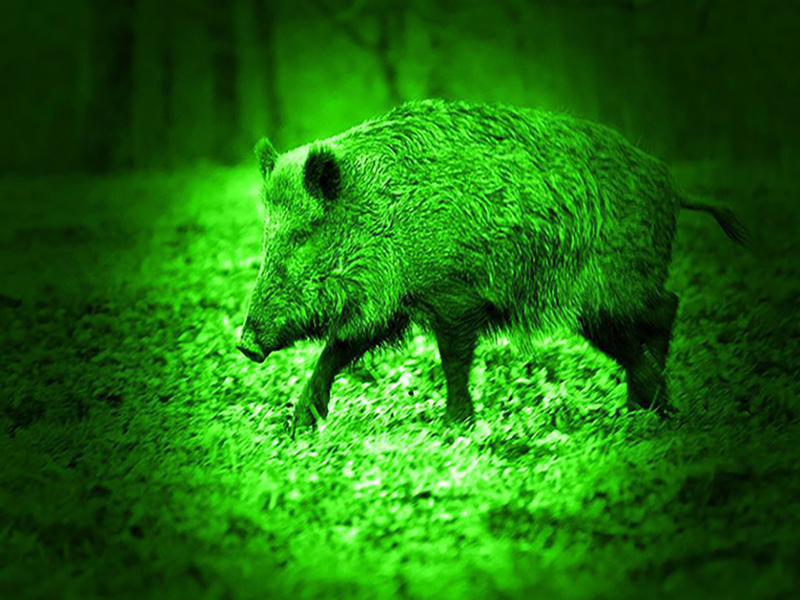cinghiale: (213, 99, 680, 422)
